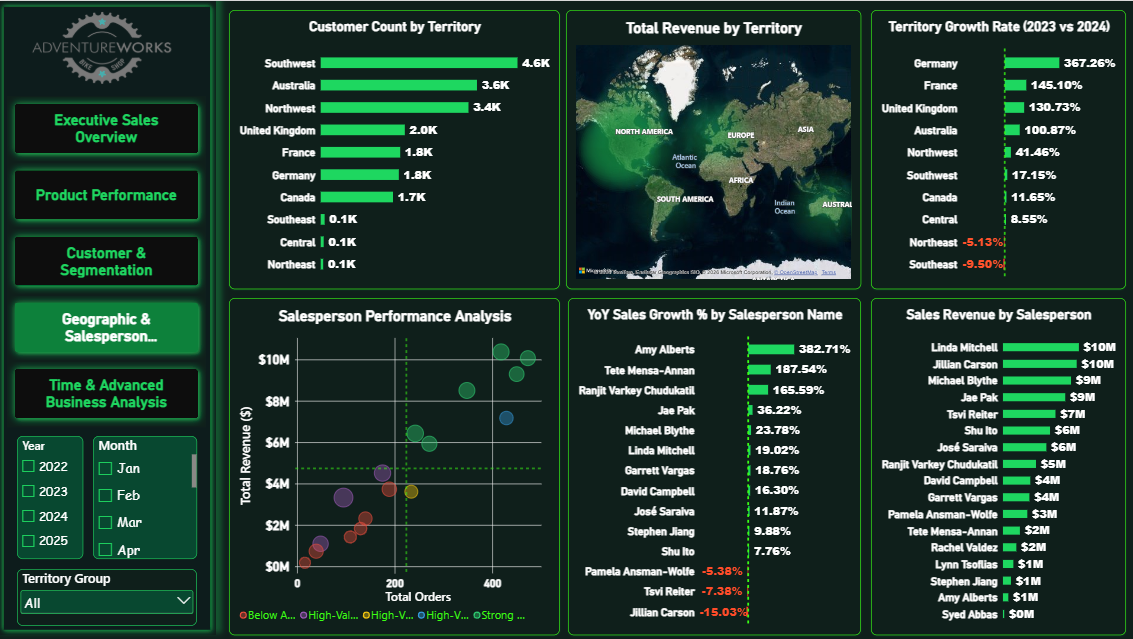

What the dashboard file says about the page in this screenshot:
{"tool":"powerbi","page":{"name":"Geographic & Salesperson  Performance ","canvas":[1920,1080],"ordinal":3},"visuals":[{"type":"shape","box":[0,0,368,1072],"z":0},{"type":"pageNavigator","box":[16,160,336,560],"z":1000},{"type":"image","box":[32,16,288,128],"z":2000},{"type":"slicer","fields":{"Values":["Calender.Year"]},"box":[32,736,112,208],"z":3000},{"type":"slicer","fields":{"Values":["Calender.Month"]},"box":[160,736,176,208],"z":4000},{"type":"slicer","fields":{"Values":["Sales SalesTerritory.Group"]},"box":[32,960,304,96],"z":5000},{"type":"map","title":"Total Revenue by Territory ","fields":{"Category":["Sales SalesTerritory.Name"],"Size":["CALC ( Executive Sales Overview).Total Revenue"]},"box":[960,15.2,498.6,471.5],"z":6000},{"type":"clusteredBarChart","title":"Customer Count by Territory","fields":{"Category":["Sales SalesTerritory.Name"],"Y":["Count(Sales SalesOrderHeader.CustomerID)"]},"box":[390.4,15.2,559.4,471.5],"z":7000},{"type":"clusteredBarChart","title":"Territory Growth Rate (2023 vs 2024)","fields":{"Category":["Sales SalesTerritory.Name"],"Y":["CALC(Geographic & Salesperson  Performance ).Territory Growth Rate"]},"box":[1475.5,15.2,431,471.5],"z":8000},{"type":"scatterChart","title":"Salesperson Performance Analysis","fields":{"Category":["Salesperson_Performance_Table.SalesPersonID"],"Series":["Salesperson_Performance_Table.Status_"],"X":["Sum(Salesperson_Performance_Table.ORDER_NO)"],"Y":["Sum(Salesperson_Performance_Table.Total_Sales)"],"Size":["Sum(Salesperson_Performance_Table.AOV)"]},"box":[390.4,502,559.4,569.6],"z":9000},{"type":"clusteredBarChart","fields":{"Y":["CALC(Geographic & Salesperson  Performance ).YoY Sales Growth %"],"Category":["Sales SalesPerson.Salesperson Name"]},"box":[963.4,502,495.2,569.6],"z":10000},{"type":"clusteredBarChart","title":"Sales Revenue by Salesperson","fields":{"Category":["Sales SalesPerson.Salesperson Name"],"Y":["CALC(Geographic & Salesperson  Performance ).Salesperson Revenue"]},"box":[1475.5,502,431,569.6],"z":11000}]}

Visuals, with their boxes in screenshot pixels (x1, y1, x2, y2), scaled from the page's 1920x1080 canvas onto the 1133x639 screenshot:
shape: x1=0, y1=0, x2=217, y2=634
pageNavigator: x1=9, y1=95, x2=208, y2=426
image: x1=19, y1=9, x2=189, y2=85
slicer - Calender.Year: x1=19, y1=435, x2=85, y2=559
slicer - Calender.Month: x1=94, y1=435, x2=198, y2=559
slicer - Sales SalesTerritory.Group: x1=19, y1=568, x2=198, y2=625
"Total Revenue by Territory " map: x1=566, y1=9, x2=861, y2=288
"Customer Count by Territory" clusteredBarChart: x1=230, y1=9, x2=560, y2=288
"Territory Growth Rate (2023 vs 2024)" clusteredBarChart: x1=871, y1=9, x2=1125, y2=288
"Salesperson Performance Analysis" scatterChart: x1=230, y1=297, x2=560, y2=634
clusteredBarChart - CALC(Geographic & Salesperson  Performance ).YoY Sales Growth % x Sales SalesPerson.Salesperson Name: x1=569, y1=297, x2=861, y2=634
"Sales Revenue by Salesperson" clusteredBarChart: x1=871, y1=297, x2=1125, y2=634
